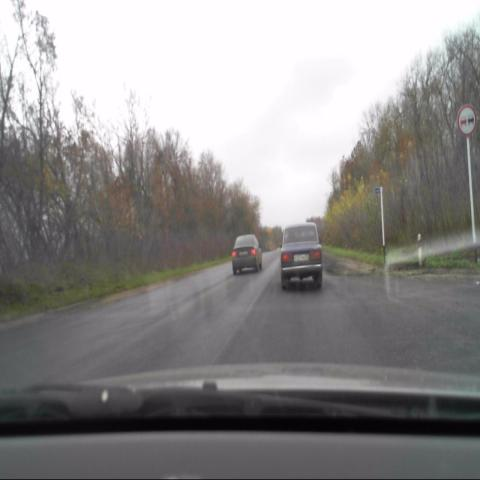3_20: (458, 103, 476, 133)
